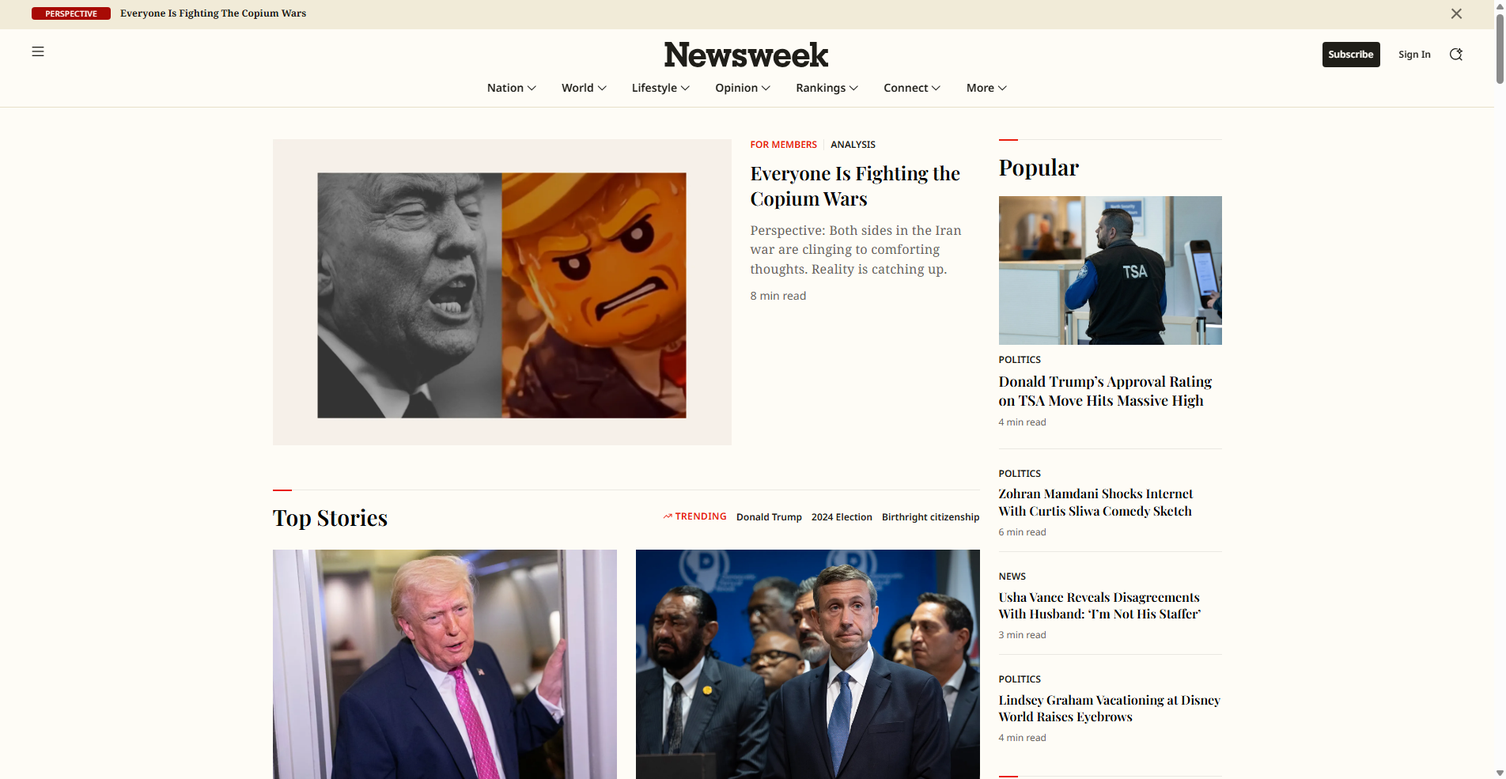button: (272, 139, 731, 445), (272, 549, 617, 779), (636, 549, 980, 779), (0, 0, 1451, 27), (999, 196, 1222, 345), (750, 160, 980, 211), (999, 372, 1222, 410), (999, 485, 1222, 519), (999, 588, 1222, 622), (999, 691, 1222, 725), (1322, 42, 1380, 67), (1393, 42, 1437, 67), (882, 511, 980, 522), (750, 139, 817, 150), (736, 511, 802, 522), (812, 511, 872, 522), (831, 139, 876, 150), (999, 354, 1041, 365), (999, 468, 1041, 479), (999, 674, 1041, 685), (1450, 42, 1462, 67), (999, 571, 1026, 582), (680, 77, 690, 99), (761, 77, 771, 99), (931, 77, 941, 99), (527, 77, 536, 99), (597, 77, 606, 99), (849, 77, 858, 99), (998, 77, 1007, 99), (32, 45, 44, 58), (1451, 8, 1462, 19)
link: (481, 42, 1013, 67), (796, 142, 941, 170), (796, 197, 941, 225), (796, 225, 941, 253), (796, 280, 941, 308), (796, 115, 941, 142), (796, 170, 941, 197), (796, 253, 941, 280), (487, 142, 617, 170), (487, 197, 617, 225), (487, 225, 617, 253), (487, 280, 617, 308), (487, 308, 617, 336), (632, 142, 762, 170), (632, 197, 762, 225), (632, 225, 762, 253), (632, 280, 762, 308), (715, 142, 845, 170), (966, 142, 1096, 170), (966, 197, 1096, 225), (966, 225, 1096, 253), (966, 280, 1096, 308), (966, 308, 1096, 336), (562, 142, 691, 170), (562, 197, 691, 225), (562, 225, 691, 253), (884, 142, 1013, 170), (884, 197, 1013, 225), (884, 225, 1013, 253), (884, 280, 1013, 308), (884, 308, 1013, 336), (884, 363, 1013, 391), (487, 115, 617, 142), (487, 170, 617, 197), (487, 253, 617, 280), (632, 115, 762, 142), (632, 170, 762, 197), (632, 253, 762, 280), (715, 115, 845, 142), (966, 115, 1096, 142), (966, 170, 1096, 197), (966, 253, 1096, 280), (562, 115, 691, 142), (562, 170, 691, 197), (884, 115, 1013, 142), (884, 170, 1013, 197), (884, 253, 1013, 280), (884, 336, 1013, 363), (790, 67, 865, 108), (625, 67, 696, 108), (877, 67, 947, 108), (709, 67, 777, 108), (481, 67, 543, 108), (555, 67, 613, 108), (960, 67, 1013, 108)
